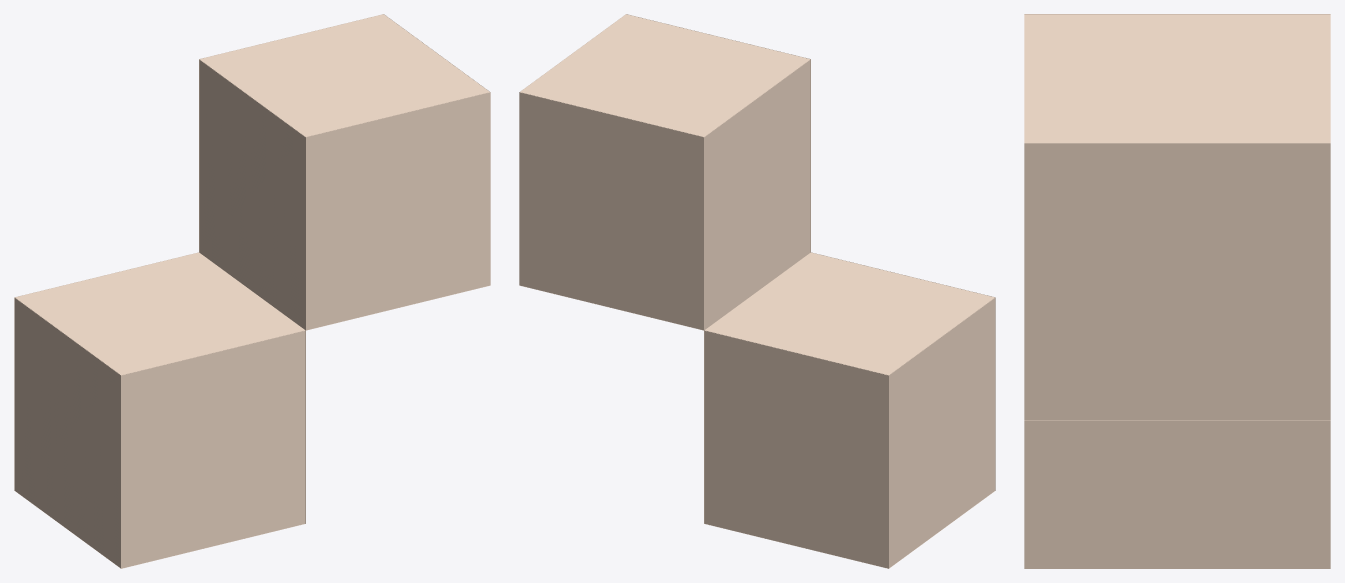
File: Samurai Arm.obj
3 renders of one model, left to right at view 1: azimuth 30°, elevation 25°; view 2: azimuth 150°, elevation 25°; view 3: azimuth 270°, elevation 25°, orthographic. The views are drawn at different scales.
Visible parts, largest first — view 1: Samurai Arm; view 2: Samurai Arm; view 3: Samurai Arm.
Part boxes in pixels (x1=…): Samurai Arm: x1=14, y1=14, x2=490, y2=568; Samurai Arm: x1=519, y1=14, x2=995, y2=568; Samurai Arm: x1=1024, y1=14, x2=1330, y2=568.
Bounding box in the file's own units: 2 × 2 × 1.
Materials: 1 (1 with a texture image).
